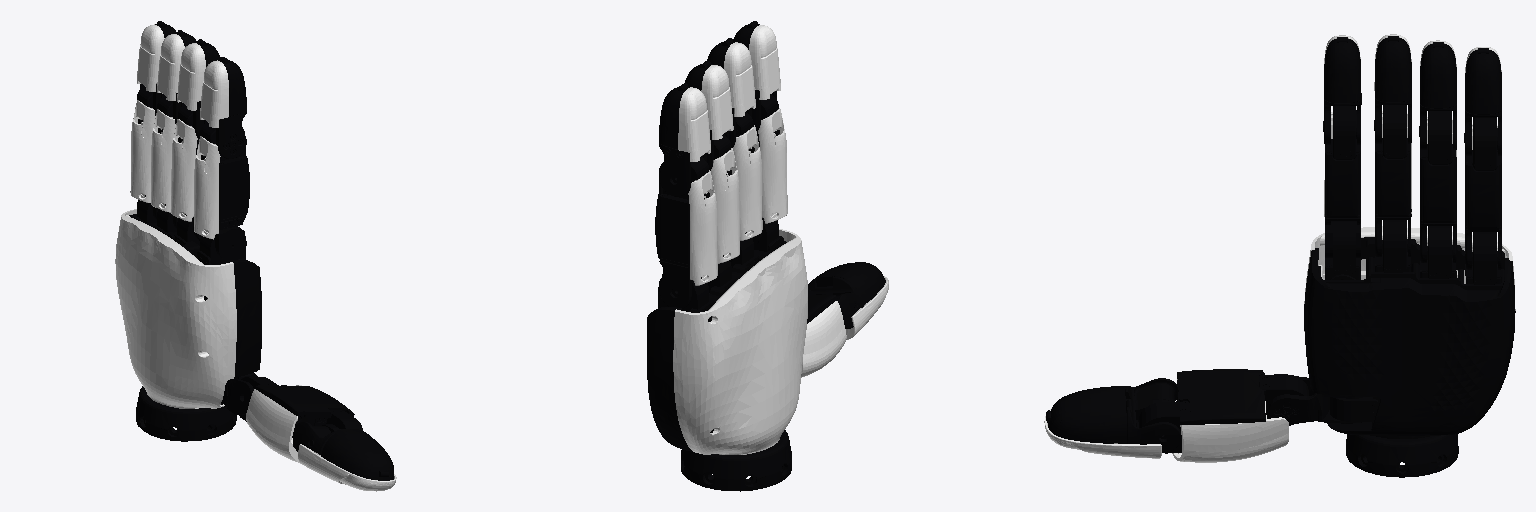
--- Render facts (derived) ---
Views: 3 orthographic renders of the robot side by side, from view 1: azimuth 30°, elevation 25°; view 2: azimuth 150°, elevation 25°; view 3: azimuth 270°, elevation 25°.
Robot: xhand_left — 31 links, 30 joints (12 revolute, 18 fixed); root link base_link; default pose: all joints at 0.
Links seen in each view (by area): view 1: left_hand_back_link, left_hand_link, left_hand_thumb_rota_link2, left_hand_thumb_rota_link1, left_hand_index_rota_link1, left_hand_index_rotaback_link1, left_hand_thumb_rotaback_link1, left_hand_midback_link1, left_hand_index_rota_link2, left_hand_ringback_link1, left_hand_pinkyback_link1, left_hand_index_rotaback_link2 (+6 smaller); view 2: left_hand_back_link, left_hand_link, left_hand_pinky_link1, left_hand_pinkyback_link1, left_hand_index_rotaback_link1, left_hand_thumb_rota_link2, left_hand_ringback_link1, left_hand_midback_link1, left_hand_pinky_link2, left_hand_thumb_rotaback_link1, left_hand_pinkyback_link2, left_hand_index_rotaback_link2 (+5 smaller); view 3: left_hand_link, left_hand_thumb_rota_link1, left_hand_thumb_rota_link2, left_hand_pinky_link1, left_hand_ring_link1, left_hand_mid_link1, left_hand_thumb_rotaback_link1, left_hand_index_rota_link1, left_hand_index_rota_link2, left_hand_ring_link2, left_hand_mid_link2, left_hand_pinky_link2 (+4 smaller).
Boxes of the visible links, left/top/right/bottom form: left_hand_back_link: left=115, top=209, right=236, bottom=408; left_hand_link: left=129, top=200, right=261, bottom=441; left_hand_thumb_rota_link2: left=293, top=422, right=393, bottom=480; left_hand_thumb_rota_link1: left=239, top=377, right=362, bottom=447; left_hand_index_rota_link1: left=200, top=122, right=249, bottom=229; left_hand_index_rotaback_link1: left=194, top=136, right=220, bottom=239; left_hand_thumb_rotaback_link1: left=246, top=385, right=301, bottom=463; left_hand_midback_link1: left=171, top=119, right=197, bottom=221; left_hand_index_rota_link2: left=204, top=60, right=246, bottom=158; left_hand_ringback_link1: left=151, top=109, right=175, bottom=212; left_hand_pinkyback_link1: left=130, top=100, right=155, bottom=202; left_hand_index_rotaback_link2: left=200, top=60, right=228, bottom=127; left_hand_back_link: left=673, top=229, right=807, bottom=454; left_hand_link: left=647, top=238, right=791, bottom=491; left_hand_pinky_link1: left=655, top=156, right=709, bottom=308; left_hand_pinkyback_link1: left=688, top=170, right=717, bottom=285; left_hand_index_rotaback_link1: left=758, top=108, right=787, bottom=223; left_hand_thumb_rota_link2: left=808, top=262, right=885, bottom=328; left_hand_ringback_link1: left=711, top=148, right=739, bottom=263; left_hand_midback_link1: left=733, top=125, right=762, bottom=240; left_hand_pinky_link2: left=659, top=87, right=706, bottom=196; left_hand_thumb_rotaback_link1: left=801, top=301, right=846, bottom=377; left_hand_pinkyback_link2: left=678, top=87, right=710, bottom=161; left_hand_index_rotaback_link2: left=749, top=25, right=780, bottom=99; left_hand_link: left=1304, top=220, right=1515, bottom=477; left_hand_thumb_rota_link1: left=1136, top=369, right=1308, bottom=453; left_hand_thumb_rota_link2: left=1047, top=378, right=1181, bottom=451; left_hand_pinky_link1: left=1465, top=117, right=1501, bottom=269; left_hand_ring_link1: left=1420, top=111, right=1456, bottom=262; left_hand_mid_link1: left=1375, top=105, right=1411, bottom=256; left_hand_thumb_rotaback_link1: left=1172, top=379, right=1288, bottom=462; left_hand_index_rota_link1: left=1325, top=106, right=1360, bottom=224; left_hand_index_rota_link2: left=1323, top=39, right=1361, bottom=144; left_hand_ring_link2: left=1419, top=44, right=1456, bottom=149; left_hand_mid_link2: left=1374, top=38, right=1411, bottom=143; left_hand_pinky_link2: left=1464, top=50, right=1501, bottom=155.
Bounding box of the posed robot: 0.0644 × 0.2091 × 0.2078 m (x, y, z).
Meshes: 30 distinct files referenced, 30 mesh visuals loaded (30 binary STL).

The robot description file, URDF, robot "xhand_left":
<?xml version="1.0" encoding="utf-8"?>
<!-- This URDF was automatically created by SolidWorks to URDF Exporter! Originally created by Stephen Brawner ([email redacted]) 
     Commit Version: 1.6.0-4-g7f85cfe  Build Version: 1.6.7995.38578
     For more information, please see http://wiki.ros.org/sw_urdf_exporter -->
<robot
  name="xhand_left">

  <link name="base_link"/>
  <joint name="base_joint" type="fixed">
    <parent link="base_link"/>
    <child link="left_hand_link"/>
    <origin xyz="0 0 0" rpy="3.14 0 -1.57"/>
  </joint>
  <link
    name="left_hand_link">
    <inertial>
      <origin
        xyz="-0.00332669287155695 -0.0101781679017775 -0.0570610488181998"
        rpy="0 0 0" />
      <mass
        value="0.53910397" />
      <inertia
        ixx="0.00046461"
        ixy="-0.0000027"
        ixz="-0.00005111"
        iyy="0.00064437"
        iyz="-0.00000218"
        izz="0.00027759" />
    </inertial>
    <visual>
      <origin
        xyz="0 0 0"
        rpy="0 0 0" />
      <geometry>
        <mesh
          filename="meshes/left_hand_link.STL" />
      </geometry>
      <material
        name="RAL_9005_Jet_Black">
        <color
          rgba="0.055 0.055 0.063 1" />
      </material>
    </visual>
    <collision>
      <origin
        xyz="0 0 0"
        rpy="0 0 0" />
      <geometry>
        <mesh
          filename="meshes/left_hand_link.STL" />
      </geometry>
    </collision>
  </link>
  <link
    name="left_hand_ee_link">
    <inertial>
      <origin
        xyz="-9.14235300816632E-20 6.87814821208628E-18 0"
        rpy="0 0 0" />
      <mass
        value="0.00000565" />
      <inertia
        ixx="0.00000000001"
        ixy="0.00000000001"
        ixz="0.00000000001"
        iyy="0.00000000001"
        iyz="0.00000000001"
        izz="0.00000000001" />
    </inertial>
    <visual>
      <origin
        xyz="0 0 0"
        rpy="0 0 0" />
      <geometry>
        <mesh
          filename="meshes/left_hand_ee_link.STL" />
      </geometry>
      <material
        name="RAL_9005_Jet_Black">
        <color
          rgba="0.055 0.055 0.063 1" />
      </material>
    </visual>
    <collision>
      <origin
        xyz="0 0 0"
        rpy="0 0 0" />
      <geometry>
        <mesh
          filename="meshes/left_hand_ee_link.STL" />
      </geometry>
    </collision>
  </link>
  <joint
    name="left_hand_ee_joint"
    type="fixed">
    <origin
      xyz="0 0 -0.065"
      rpy="0 0 0" />
    <parent
      link="left_hand_link" />
    <child
      link="left_hand_ee_link" />
    <axis
      xyz="0 0 0" />
  </joint>
  <link
    name="left_hand_back_link">
    <inertial>
      <origin
        xyz="-0.00206614328070064 0.0140092020913419 0.000644119291874204"
        rpy="0 0 0" />
      <mass
        value="0.00000020" />
      <inertia
        ixx="0.00000000001"
        ixy="0.00000000001"
        ixz="0.00000000001"
        iyy="0.00000000001"
        iyz="0.00000000001"
        izz="0.00000000001" />
    </inertial>
    <visual>
      <origin
        xyz="0 0 0"
        rpy="0 0 0" />
      <geometry>
        <mesh
          filename="meshes/left_hand_back_link.STL" />
      </geometry>
      <material
        name="RAL_9003_Signal_White">
        <color
          rgba="0.941 0.941 0.941 1" />
      </material>
    </visual>
    <collision>
      <origin
        xyz="0 0 0"
        rpy="0 0 0" />
      <geometry>
        <mesh
          filename="meshes/left_hand_back_link.STL" />
      </geometry>
    </collision>
  </link>
  <joint
    name="left_hand_back_joint"
    type="fixed">
    <origin
      xyz="0 0 -0.065"
      rpy="0 0 0" />
    <parent
      link="left_hand_link" />
    <child
      link="left_hand_back_link" />
    <axis
      xyz="0 0 0" />
    <dynamics
      damping="0"
      friction="0" />
  </joint>
  <link
    name="left_hand_thumb_bend_link">
    <inertial>
      <origin
        xyz="0.0144315029292586 0.00116653625408803 -6.50665966587562E-05"
        rpy="0 0 0" />
      <mass
        value="0.0118729" />
      <inertia
        ixx="0.00000062"
        ixy="0.00000004"
        ixz="-0.00000008"
        iyy="0.0000016"
        iyz="0.00000000001"
        izz="0.00000162" />
    </inertial>
    <visual>
      <origin
        xyz="0 0 0"
        rpy="0 0 0" />
      <geometry>
        <mesh
          filename="meshes/left_hand_thumb_bend_link.STL" />
      </geometry>
      <material
        name="RAL_9005_Jet_Black">
        <color
          rgba="0.055 0.055 0.063 1" />
      </material>
    </visual>
    <collision>
      <origin
        xyz="0 0 0"
        rpy="0 0 0" />
      <geometry>
        <mesh
          filename="meshes/left_hand_thumb_bend_link.STL" />
      </geometry>
    </collision>
  </link>
  <joint
    name="left_hand_thumb_bend_joint"
    type="revolute">
    <origin
      xyz="0.0228 -0.0095 -0.0305"
      rpy="0 0 0" />
    <parent
      link="left_hand_link" />
    <child
      link="left_hand_thumb_bend_link" />
    <axis
      xyz="0 0 -1" />
    <limit
      lower="0"
      upper="1.832"
      effort="1.1"
      velocity="8.63" />
    <dynamics
      damping="0"
      friction="0" />
  </joint>
  <link
    name="left_hand_thumb_rota_link1">
    <inertial>
      <origin
        xyz="0.028699400584835 0.000353013004294657 -0.0013521057380018"
        rpy="0 0 0" />
      <mass
        value="0.13268494" />
      <inertia
        ixx="0.00001702"
        ixy="0.00000762"
        ixz="-0.00000176"
        iyy="0.00003592"
        iyz="0.00000197"
        izz="0.00004285" />
    </inertial>
    <visual>
      <origin
        xyz="0 0 0"
        rpy="0 0 0" />
      <geometry>
        <mesh
          filename="meshes/left_hand_thumb_rota_link1.STL" />
      </geometry>
      <material
        name="RAL_9005_Jet_Black">
        <color
          rgba="0.055 0.055 0.063 1" />
      </material>
    </visual>
    <collision>
      <origin
        xyz="0 0 0"
        rpy="0 0 0" />
      <geometry>
        <mesh
          filename="meshes/left_hand_thumb_rota_link1.STL" />
      </geometry>
    </collision>
  </link>
  <joint
    name="left_hand_thumb_rota_joint1"
    type="revolute">
    <origin
      xyz="0.028599 -0.0083177 0.00178"
      rpy="-0.2618 0 -0.0407" />
    <parent
      link="left_hand_thumb_bend_link" />
    <child
      link="left_hand_thumb_rota_link1" />
    <axis
      xyz="0 1 0" />
    <limit
      lower="-0.698"
      upper="1.745"
      effort="1.1"
      velocity="8.63" />
    <dynamics
      damping="0"
      friction="0" />
  </joint>
  <link
    name="left_hand_thumb_rotaback_link1">
    <inertial>
      <origin
        xyz="-0.0296284435379629 -0.00145635345487384 0.00757347054072984"
        rpy="0 0 0" />
      <mass
        value="0.00000006" />
      <inertia
        ixx="0.00000000001"
        ixy="0.00000000001"
        ixz="0.00000000001"
        iyy="0.00000000001"
        iyz="0.00000000001"
        izz="0.00000000001" />
    </inertial>
    <visual>
      <origin
        xyz="0 0 0"
        rpy="0 0 0" />
      <geometry>
        <mesh
          filename="meshes/left_hand_thumb_rotaback_link1.STL" />
      </geometry>
      <material
        name="RAL_9003_Signal_White">
        <color
          rgba="0.941 0.941 0.941 1" />
      </material>
    </visual>
    <collision>
      <origin
        xyz="0 0 0"
        rpy="0 0 0" />
      <geometry>
        <mesh
          filename="meshes/left_hand_thumb_rotaback_link1.STL" />
      </geometry>
    </collision>
  </link>
  <joint
    name="left_hand_thumb_rotaback_joint1"
    type="fixed">
    <origin
      xyz="0.0553000000000004 0 0"
      rpy="0 0 0" />
    <parent
      link="left_hand_thumb_rota_link1" />
    <child
      link="left_hand_thumb_rotaback_link1" />
    <axis
      xyz="0 0 0" />
    <dynamics
      damping="0"
      friction="0" />
  </joint>
  <link
    name="left_hand_thumb_rota_link2">
    <inertial>
      <origin
        xyz="0.0228414266462457 0.000460794125797265 -0.000578251645405752"
        rpy="0 0 0" />
      <mass
        value="0.03536566" />
      <inertia
        ixx="0.00000353"
        ixy="-0.0000001"
        ixz="0.00000021"
        iyy="0.00000785"
        iyz="0.00000038"
        izz="0.00000898" />
    </inertial>
    <visual>
      <origin
        xyz="0 0 0"
        rpy="0 0 0" />
      <geometry>
        <mesh
          filename="meshes/left_hand_thumb_rota_link2.STL" />
      </geometry>
      <material
        name="RAL_9005_Jet_Black">
        <color
          rgba="0.055 0.055 0.063 1" />
      </material>
    </visual>
    <collision>
      <origin
        xyz="0 0 0"
        rpy="0 0 0" />
      <geometry>
        <mesh
          filename="meshes/left_hand_thumb_rota_link2.STL" />
      </geometry>
    </collision>
  </link>
  <joint
    name="left_hand_thumb_rota_joint2"
    type="revolute">
    <origin
      xyz="0.0553 0 0"
      rpy="0 0 0" />
    <parent
      link="left_hand_thumb_rota_link1" />
    <child
      link="left_hand_thumb_rota_link2" />
    <axis
      xyz="0 1 0" />
    <limit
      lower="0"
      upper="1.745"
      effort="0.4"
      velocity="14.38" />
    <dynamics
      damping="0"
      friction="0" />
  </joint>
  <link
    name="left_hand_thumb_rotaback_link2">
    <inertial>
      <origin
        xyz="-0.0256682291910944 0.000513274886833534 0.00926148645051527"
        rpy="0 0 0" />
      <mass
        value="0.00000004" />
      <inertia
        ixx="0.00000000001"
        ixy="0.00000000001"
        ixz="0.00000000001"
        iyy="0.00000000001"
        iyz="0.00000000001"
        izz="0.00000000001" />
    </inertial>
    <visual>
      <origin
        xyz="0 0 0"
        rpy="0 0 0" />
      <geometry>
        <mesh
          filename="meshes/left_hand_thumb_rotaback_link2.STL" />
      </geometry>
      <material
        name="RAL_9003_Signal_White">
        <color
          rgba="0.941 0.941 0.941 1" />
      </material>
    </visual>
    <collision>
      <origin
        xyz="0 0 0"
        rpy="0 0 0" />
      <geometry>
        <mesh
          filename="meshes/left_hand_thumb_rotaback_link2.STL" />
      </geometry>
    </collision>
  </link>
  <joint
    name="left_hand_thumb_rotaback_joint2"
    type="fixed">
    <origin
      xyz="0.0499881470979494 0 0"
      rpy="0 0 0" />
    <parent
      link="left_hand_thumb_rota_link2" />
    <child
      link="left_hand_thumb_rotaback_link2" />
    <axis
      xyz="0 0 0" />
    <dynamics
      damping="0"
      friction="0" />
  </joint>
  <link
    name="left_hand_thumb_rota_tip">
    <inertial>
      <origin
        xyz="-8.32667268468867E-17 1.04083408558608E-17 2.28983498828939E-16"
        rpy="0 0 0" />
      <mass
        value="0.00000565" />
      <inertia
        ixx="0.00000000001"
        ixy="0.00000000001"
        ixz="0.00000000001"
        iyy="0.00000000001"
        iyz="0.00000000001"
        izz="0.00000000001" />
    </inertial>
    <visual>
      <origin
        xyz="0 0 0"
        rpy="0 0 0" />
      <geometry>
        <mesh
          filename="meshes/left_hand_thumb_rota_tip.STL" />
      </geometry>
      <material
        name="RAL_9005_Jet_Black">
        <color
          rgba="0.055 0.055 0.063 1" />
      </material>
    </visual>
    <collision>
      <origin
        xyz="0 0 0"
        rpy="0 0 0" />
      <geometry>
        <mesh
          filename="meshes/left_hand_thumb_rota_tip.STL" />
      </geometry>
    </collision>
  </link>
  <joint
    name="left_hand_thumb_rota_joint3"
    type="fixed">
    <origin
      xyz="0.0499881470979494 0 0"
      rpy="0 0 0" />
    <parent
      link="left_hand_thumb_rota_link2" />
    <child
      link="left_hand_thumb_rota_tip" />
    <axis
      xyz="0 0 0" />
    <dynamics
      damping="0"
      friction="0" />
  </joint>
  <link
    name="left_hand_index_bend_link">
    <inertial>
      <origin
        xyz="-0.000388464456994867 0.000992075604557427 -0.00970333167554097"
        rpy="0 0 0" />
      <mass
        value="0.06910833" />
      <inertia
        ixx="0.0000174"
        ixy="0.00000000001"
        ixz="0.00000000001"
        iyy="0.00001677"
        iyz="0.00000013"
        izz="0.00000345" />
    </inertial>
    <visual>
      <origin
        xyz="0 0 0"
        rpy="0 0 0" />
      <geometry>
        <mesh
          filename="meshes/left_hand_index_bend_link.STL" />
      </geometry>
      <material
        name="RAL_9005_Jet_Black">
        <color
          rgba="0.055 0.055 0.063 1" />
      </material>
    </visual>
    <!-- <collision>
      <origin
        xyz="0 0 0"
        rpy="0 0 0" />
      <geometry>
        <mesh
          filename="meshes/left_hand_index_bend_collide_link.STL" />
      </geometry>
    </collision> -->
  </link>
  <joint
    name="left_hand_index_bend_joint"
    type="revolute">
    <origin
      xyz="0.0265 -0.0065 -0.0899"
      rpy="0 0 0" />
    <parent
      link="left_hand_link" />
    <child
      link="left_hand_index_bend_link" />
    <axis
      xyz="0 -1 0" />
    <limit
      lower="-0.174"
      upper="0.174"
      effort="0.4"
      velocity="14.38" />
    <dynamics
      damping="0"
      friction="0" />
  </joint>
  <link
    name="left_hand_index_rota_link1">
    <inertial>
      <origin
        xyz="-3.58049083604185E-05 -0.00053041759210529 -0.0332784671157223"
        rpy="0 0 0" />
      <mass
        value="0.06298297" />
      <inertia
        ixx="0.00001738"
        ixy="0.00000000001"
        ixz="-0.00000028"
        iyy="0.00001686"
        iyz="-0.00000019"
        izz="0.0000032" />
    </inertial>
    <visual>
      <origin
        xyz="0 0 0"
        rpy="0 0 0" />
      <geometry>
        <mesh
          filename="meshes/left_hand_index_rota_link1.STL" />
      </geometry>
      <material
        name="RAL_9005_Jet_Black">
        <color
          rgba="0.055 0.055 0.063 1" />
      </material>
    </visual>
    <collision>
      <origin
        xyz="0 0 0"
        rpy="0 0 0" />
      <!-- <geometry>
        <mesh
          filename="meshes/left_hand_index_rota_x_link1.STL" />          
      </geometry> -->
      <geometry>
        <mesh
          filename="meshes/left_hand_index_rota_link1.STL" />          
      </geometry>

    </collision>
  </link>
  <joint
    name="left_hand_index_joint1"
    type="revolute">
    <origin
      xyz="0 0 -0.0178"
      rpy="0 0 0" />
    <parent
      link="left_hand_index_bend_link" />
    <child
      link="left_hand_index_rota_link1" />
    <axis
      xyz="-1 0 0" />
    <limit
      lower="0"
      upper="1.919"
      effort="1.1"
      velocity="8.63" />
    <dynamics
      damping="0"
      friction="0" />
  </joint>
  <link
    name="left_hand_index_rotaback_link1">
    <inertial>
      <origin
        xyz="0.00014803463945353 0.0115948039961551 0.0241234085631844"
        rpy="0 0 0" />
      <mass
        value="0.00000002" />
      <inertia
        ixx="0.00000000001"
        ixy="0.00000000001"
        ixz="0.00000000001"
        iyy="0.00000000001"
        iyz="0.00000000001"
        izz="0.00000000001" />
    </inertial>
    <visual>
      <origin
        xyz="0 0 0"
        rpy="0 0 0" />
      <geometry>
        <mesh
          filename="meshes/left_hand_index_rotaback_link1.STL" />
      </geometry>
      <material
        name="RAL_9003_Signal_White">
        <color
          rgba="0.941 0.941 0.941 1" />
      </material>
    </visual>
    <collision>
      <origin
        xyz="0 0 0"
        rpy="0 0 0" />
      <geometry>
        <mesh
          filename="meshes/left_hand_index_rotaback_link1.STL" />
      </geometry>
    </collision>
  </link>
  <joint
    name="left_hand_index_rotaback_joint1"
    type="fixed">
    <origin
      xyz="0 0 -0.0558000000000001"
      rpy="0 0 0" />
    <parent
      link="left_hand_index_rota_link1" />
    <child
      link="left_hand_index_rotaback_link1" />
    <axis
      xyz="0 0 0" />
    <dynamics
      damping="0"
      friction="0" />
  </joint>
  <link
    name="left_hand_index_rota_link2">
    <inertial>
      <origin
        xyz="0.000248361662016118 -0.00119905190206697 -0.0213789854478661"
        rpy="0 0 0" />
      <mass
        value="0.01588724" />
      <inertia
        ixx="0.00000277"
        ixy="0.00000000001"
        ixz="-0.00000012"
        iyy="0.00000283"
        iyz="-0.00000007"
        izz="0.00000085" />
    </inertial>
    <visual>
      <origin
        xyz="0 0 0"
        rpy="0 0 0" />
      <geometry>
        <mesh
          filename="meshes/left_hand_index_rota_link2.STL" />
      </geometry>
      <material
        name="RAL_9005_Jet_Black">
        <color
          rgba="0.055 0.055 0.063 1" />
      </material>
    </visual>
    <collision>
      <origin
        xyz="0 0 0"
        rpy="0 0 0" />
      <geometry>
        <mesh
          filename="meshes/left_hand_index_rota_link2.STL" />
      </geometry>
    </collision>
  </link>
  <joint
    name="left_hand_index_joint2"
    type="revolute">
    <origin
      xyz="0 0 -0.0558"
      rpy="0 0 0" />
    <parent
      link="left_hand_index_rota_link1" />
    <child
      link="left_hand_index_rota_link2" />
    <axis
      xyz="-1 0 0" />
    <limit
      lower="0"
      upper="1.919"
      effort="0.4"
      velocity="14.38" />
    <dynamics
      damping="0"
      friction="0" />
  </joint>
  <link
    name="left_hand_index_rotaback_link2">
    <inertial>
      <origin
        xyz="-0.000157950438605944 0.00758843721876324 0.017665521085575"
        rpy="0 0 0" />
      <mass
        value="0.00000001" />
      <inertia
        ixx="0.00000000001"
        ixy="0.00000000001"
        ixz="0.00000000001"
        iyy="0.00000000001"
        iyz="0.00000000001"
        izz="0.00000000001" />
    </inertial>
    <visual>
      <origin
        xyz="0 0 0"
        rpy="0 0 0" />
      <geometry>
        <mesh
          filename="meshes/left_hand_index_rotaback_link2.STL" />
      </geometry>
      <material
        name="RAL_9003_Signal_White">
        <color
          rgba="0.941 0.941 0.941 1" />
      </material>
    </visual>
    <collision>
      <origin
        xyz="0 0 0"
        rpy="0 0 0" />
      <geometry>
        <mesh
          filename="meshes/left_hand_index_rotaback_link2.STL" />
      </geometry>
    </collision>
  </link>
  <joint
    name="left_hand_index_rotaback_joint2"
    type="fixed">
    <origin
      xyz="0 0 -0.0422482924089404"
      rpy="0 0 0" />
    <parent
      link="left_hand_index_rota_link2" />
    <child
      link="left_hand_index_rotaback_link2" />
    <axis
      xyz="0 0 0" />
    <dynamics
      damping="0"
      friction="0" />
  </joint>
  <link
    name="left_hand_index_rota_tip">
    <inertial>
      <origin
        xyz="-1.00613961606655E-16 1.90819582357449E-17 0"
        rpy="0 0 0" />
      <mass
        value="0.00000565" />
      <inertia
        ixx="0.00000000001"
        ixy="0.00000000001"
        ixz="0.00000000001"
        iyy="0.00000000001"
        iyz="0.00000000001"
        izz="0.00000000001" />
    </inertial>
    <visual>
      <origin
        xyz="0 0 0"
        rpy="0 0 0" />
      <geometry>
        <mesh
          filename="meshes/left_hand_index_rota_tip.STL" />
      </geometry>
      <material
        name="RAL_9005_Jet_Black">
        <color
          rgba="0.055 0.055 0.063 1" />
      </material>
    </visual>
    <collision>
      <origin
        xyz="0 0 0"
        rpy="0 0 0" />
      <geometry>
        <mesh
          filename="meshes/left_hand_index_rota_tip.STL" />
      </geometry>
    </collision>
  </link>
  <joint
    name="left_hand_index_rota_joint3"
    type="fixed">
    <origin
      xyz="0 0 -0.0422482924089404"
      rpy="0 0 0" />
    <parent
      link="left_hand_index_rota_link2" />
    <child
      link="left_hand_index_rota_tip" />
    <axis
      xyz="0 0 0" />
    <dynamics
      damping="0"
      friction="0" />
  </joint>
  <link
    name="left_hand_mid_link1">
    <inertial>
      <origin
        xyz="-3.58049083603916E-05 -0.000530417592105155 -0.0332784671157224"
        rpy="0 0 0" />
      <mass
        value="0.06298297" />
      <inertia
        ixx="0.00001738"
        ixy="0.00000000001"
        ixz="-0.00000028"
        iyy="0.00001686"
        iyz="-0.00000019"
        izz="0.0000032" />
    </inertial>
    <visual>
      <origin
        xyz="0 0 0"
        rpy="0 0 0" />
      <geometry>
        <mesh
          filename="meshes/left_hand_mid_link1.STL" />
      </geometry>
      <material
        name="RAL_9005_Jet_Black">
        <color
          rgba="0.055 0.055 0.063 1" />
      </material>
    </visual>
    <collision>
      <origin
        xyz="0 0 0"
        rpy="0 0 0" />
      <geometry>
        <mesh
          filename="meshes/left_hand_mid_link1.STL" />
      </geometry>
    </collision>
  </link>
  <joint
    name="left_hand_mid_joint1"
    type="revolute">
    <origin
      xyz="0.004 -0.0065 -0.1082"
      rpy="0 0 0" />
    <parent
      link="left_hand_link" />
    <child
      link="left_hand_mid_link1" />
    <axis
      xyz="-1 0 0" />
    <limit
      lower="0"
      upper="1.919"
      effort="1.1"
      velocity="8.63" />
    <dynamics
      damping="0"
      friction="0" />
  </joint>
  <link
    name="left_hand_midback_link1">
    <inertial>
      <origin
        xyz="0.000148034858018445 0.0115948038778314 0.024123407735519"
        rpy="0 0 0" />
      <mass
        value="0.00000002" />
      <inertia
        ixx="0.00000000001"
        ixy="0.00000000001"
        ixz="0.00000000001"
        iyy="0.00000000001"
        iyz="0.00000000001"
        izz="0.00000000001" />
    </inertial>
    <visual>
      <origin
        xyz="0 0 0"
        rpy="0 0 0" />
      <geometry>
        <mesh
          filename="meshes/left_hand_midback_link1.STL" />
      </geometry>
      <material
        name="RAL_9003_Signal_White">
        <color
          rgba="0.941 0.941 0.941 1" />
      </material>
    </visual>
    <collision>
      <origin
        xyz="0 0 0"
        rpy="0 0 0" />
      <geometry>
        <mesh
          filename="meshes/left_hand_midback_link1.STL" />
      </geometry>
    </collision>
  </link>
  <joint
    name="left_hand_midback_joint1"
    type="fixed">
    <origin
      xyz="0 0 -0.0558000000000001"
      rpy="0 0 0" />
    <parent
      link="left_hand_mid_link1" />
    <child
      link="left_hand_midback_link1" />
    <axis
      xyz="0 0 0" />
    <dynamics
      damping="0"
      friction="0" />
  </joint>
  <link
    name="left_hand_mid_link2">
    <inertial>
      <origin
        xyz="0.000248361662016048 -0.00119905190206678 -0.0213789854478656"
        rpy="0 0 0" />
      <mass
        value="0.01588724" />
      <inertia
        ixx="0.00000277"
        ixy="0.00000000001"
        ixz="-0.00000012"
        iyy="0.00000283"
        iyz="-0.00000007"
        izz="0.00000085" />
    </inertial>
    <visual>
      <origin
        xyz="0 0 0"
        rpy="0 0 0" />
      <geometry>
        <mesh
          filename="meshes/left_hand_mid_link2.STL" />
      </geometry>
      <material
        name="RAL_9005_Jet_Black">
        <color
          rgba="0.055 0.055 0.063 1" />
      </material>
    </visual>
    <collision>
      <origin
        xyz="0 0 0"
        rpy="0 0 0" />
      <geometry>
        <mesh
          filename="meshes/left_hand_mid_link2.STL" />
      </geometry>
    </collision>
  </link>
  <joint
    name="left_hand_mid_joint2"
    type="revolute">
    <origin
      xyz="0 0 -0.0558"
      rpy="0 0 0" />
    <parent
      link="left_hand_mid_link1" />
    <child
      link="left_hand_mid_link2" />
    <axis
      xyz="-1 0 0" />
    <limit
      lower="0"
      upper="1.919"
      effort="0.4"
      velocity="14.38" />
    <dynamics
      damping="0"
      friction="0" />
  </joint>
  <link
    name="left_hand_midback_link2">
    <inertial>
      <origin
        xyz="-0.000157950438634382 0.00758843721877263 0.0176655210856587"
        rpy="0 0 0" />
      <mass
        value="0.00000001" />
      <inertia
        ixx="0.00000000001"
        ixy="0.00000000001"
        ixz="0.00000000001"
        iyy="0.00000000001"
        iyz="0.00000000001"
        izz="0.00000000001" />
    </inertial>
    <visual>
      <origin
        xyz="0 0 0"
        rpy="0 0 0" />
      <geometry>
        <mesh
          filename="meshes/left_hand_midback_link2.STL" />
      </geometry>
      <material
        name="RAL_9003_Signal_White">
        <color
          rgba="0.941 0.941 0.941 1" />
      </material>
    </visual>
    <collision>
      <origin
        xyz="0 0 0"
        rpy="0 0 0" />
      <geometry>
        <mesh
          filename="meshes/left_hand_midback_link2.STL" />
      </geometry>
    </collision>
  </link>
  <joint
    name="left_hand_midback_joint2"
    type="fixed">
    <origin
      xyz="0 0 -0.0422482924089403"
      rpy="0 0 0" />
    <parent
      link="left_hand_mid_link2" />
    <child
      link="left_hand_midback_link2" />
    <axis
      xyz="0 0 0" />
    <dynamics
      damping="0"
      friction="0" />
  </joint>
  <link
    name="left_hand_mid_tip">
    <inertial>
      <origin
        xyz="-1.90819582357449E-17 1.55257751099924E-16 0"
        rpy="0 0 0" />
      <mass
        value="0.00000565" />
      <inertia
        ixx="0.00000000001"
        ixy="0.00000000001"
        ixz="0.00000000001"
        iyy="0.00000000001"
        iyz="0.00000000001"
        izz="0.00000000001" />
    </inertial>
    <visual>
      <origin
        xyz="0 0 0"
        rpy="0 0 0" />
      <geometry>
        <mesh
          filename="meshes/left_hand_mid_tip.STL" />
      </geometry>
      <material
        name="RAL_9005_Jet_Black">
        <color
          rgba="0.055 0.055 0.063 1" />
      </material>
    </visual>
    <collision>
      <origin
        xyz="0 0 0"
        rpy="0 0 0" />
      <geometry>
        <mesh
          filename="meshes/left_hand_mid_tip.STL" />
      </geometry>
    </collision>
  </link>
  <joint
    name="left_hand_mid_joint3"
    type="fixed">
    <origin
      xyz="0 0 -0.0422482924089403"
      rpy="0 0 0" />
    <parent
      link="left_hand_mid_link2" />
    <child
      link="left_hand_mid_tip" />
    <axis
      xyz="0 0 0" />
    <dynamics
      damping="0"
      friction="0" />
  </joint>
  <link
    name="left_hand_ring_link1">
    <inertial>
      <origin
        xyz="-3.58049083603491E-05 -0.000530417592105894 -0.0332784671157224"
        rpy="0 0 0" />
      <mass
        value="0.06298297" />
      <inertia
        ixx="0.00001738"
        ixy="0.00000000001"
        ixz="-0.00000028"
        iyy="0.00001686"
        iyz="-0.00000019"
        izz="0.0000032" />
    </inertial>
    <visual>
      <origin
        xyz="0 0 0"
        rpy="0 0 0" />
      <geometry>
        <mesh
          filename="meshes/left_hand_ring_link1.STL" />
      </geometry>
      <material
        name="RAL_9005_Jet_Black">
        <color
          rgba="0.055 0.055 0.063 1" />
      </material>
    </visual>
    <collision>
      <origin
        xyz="0 0 0"
        rpy="0 0 0" />
      <geometry>
        <mesh
          filename="meshes/left_hand_ring_link1.STL" />
      </geometry>
    </collision>
  </link>
  <joint
    name="left_hand_ring_joint1"
    type="revolute">
    <origin
      xyz="-0.016 -0.0065 -0.1052"
      rpy="0 0 0" />
    <parent
      link="left_hand_link" />
    <child
      link="left_hand_ring_link1" />
    <axis
      xyz="-1 0 0" />
    <limit
      lower="0"
      upper="1.919"
      effort="1.1"
      velocity="8.63" />
    <dynamics
      damping="0"
      friction="0" />
  </joint>
  <link
    name="left_hand_ringback_link1">
    <inertial>
      <origin
        xyz="0.000148033930314071 0.0115948038916307 0.0241234089720673"
        rpy="0 0 0" />
      <mass
        value="0.00000002" />
      <inertia
        ixx="0.00000000001"
        ixy="0.00000000001"
        ixz="0.00000000001"
        iyy="0.00000000001"
        iyz="0.00000000001"
        izz="0.00000000001" />
    </inertial>
    <visual>
      <origin
        xyz="0 0 0"
        rpy="0 0 0" />
      <geometry>
        <mesh
          filename="meshes/left_hand_ringback_link1.STL" />
      </geometry>
      <material
        name="RAL_9003_Signal_White">
        <color
          rgba="0.941 0.941 0.941 1" />
      </material>
    </visual>
    <collision>
      <origin
        xyz="0 0 0"
        rpy="0 0 0" />
      <geometry>
        <mesh
          filename="meshes/left_hand_ringback_link1.STL" />
      </geometry>
    </collision>
  </link>
  <joint
    name="left_hand_ringback_joint1"
    type="fixed">
    <origin
      xyz="0 0 -0.0558000000000001"
      rpy="0 0 0" />
    <parent
      link="left_hand_ring_link1" />
    <child
      link="left_hand_ringback_link1" />
    <axis
      xyz="0 0 0" />
    <dynamics
      damping="0"
      friction="0" />
  </joint>
  <link
    name="left_hand_ring_link2">
    <inertial>
      <origin
        xyz="0.000248361662016028 -0.0011990519020675 -0.0213789854478657"
        rpy="0 0 0" />
      <mass
        value="0.01588724" />
      <inertia
        ixx="0.00000277"
        ixy="0.00000000001"
        ixz="-0.00000012"
        iyy="0.00000283"
        iyz="-0.00000007"
        izz="0.00000085" />
    </inertial>
    <visual>
      <origin
        xyz="0 0 0"
        rpy="0 0 0" />
      <geometry>
        <mesh
          filename="meshes/left_hand_ring_link2.STL" />
      </geometry>
      <material
        name="RAL_9005_Jet_Black">
        <color
          rgba="0.055 0.055 0.063 1" />
      </material>
    </visual>
    <collision>
      <origin
        xyz="0 0 0"
        rpy="0 0 0" />
      <geometry>
        <mesh
          filename="meshes/left_hand_ring_link2.STL" />
      </geometry>
    </collision>
  </link>
  <joint
    name="left_hand_ring_joint2"
    type="revolute">
    <origin
      xyz="0 0 -0.0558"
      rpy="0 0 0" />
    <parent
      link="left_hand_ring_link1" />
    <child
      link="left_hand_ring_link2" />
    <axis
      xyz="-1 0 0" />
    <limit
      lower="0"
      upper="1.919"
      effort="0.4"
      velocity="14.38" />
    <dynamics
      damping="0"
      friction="0" />
  </joint>
  <link
    name="left_hand_ringback_link2">
    <inertial>
      <origin
        xyz="-0.000157950438606443 0.00758843721877125 0.0176655210856417"
        rpy="0 0 0" />
      <mass
        value="0.00000001" />
      <inertia
        ixx="0.00000000001"
        ixy="0.00000000001"
        ixz="0.00000000001"
        iyy="0.00000000001"
        iyz="0.00000000001"
        izz="0.00000000001" />
    </inertial>
    <visual>
      <origin
        xyz="0 0 0"
        rpy="0 0 0" />
      <geometry>
        <mesh
          filename="meshes/left_hand_ringback_link2.STL" />
      </geometry>
      <material
        name="RAL_9003_Signal_White">
        <color
          rgba="0.941 0.941 0.941 1" />
      </material>
    </visual>
    <collision>
      <origin
        xyz="0 0 0"
        rpy="0 0 0" />
      <geometry>
        <mesh
          filename="meshes/left_hand_ringback_link2.STL" />
      </geometry>
    </collision>
  </link>
  <joint
    name="left_hand_ringback_joint2"
    type="fixed">
    <origin
      xyz="0 0 -0.0422482924089404"
      rpy="0 0 0" />
    <parent
      link="left_hand_ring_link2" />
    <child
      link="left_hand_ringback_link2" />
    <axis
      xyz="0 0 0" />
    <dynamics
      damping="0"
      friction="0" />
  </joint>
  <link
    name="left_hand_ring_tip">
    <inertial>
      <origin
        xyz="-4.85722573273506E-17 -5.31692745386891E-16 0"
        rpy="0 0 0" />
      <mass
        value="0.00000565" />
      <inertia
        ixx="0.00000000001"
        ixy="0.00000000001"
        ixz="0.00000000001"
        iyy="0.00000000001"
        iyz="0.00000000001"
        izz="0.00000000001" />
    </inertial>
    <visual>
      <origin
        xyz="0 0 0"
        rpy="0 0 0" />
      <geometry>
        <mesh
          filename="meshes/left_hand_ring_tip.STL" />
      </geometry>
      <material
        name="RAL_9005_Jet_Black">
        <color
          rgba="0.055 0.055 0.063 1" />
      </material>
    </visual>
    <collision>
      <origin
        xyz="0 0 0"
        rpy="0 0 0" />
      <geometry>
        <mesh
          filename="meshes/left_hand_ring_tip.STL" />
      </geometry>
    </collision>
  </link>
  <joint
    name="left_hand_ring_joint3"
    type="fixed">
    <origin
      xyz="0 0 -0.0422482924089404"
      rpy="0 0 0" />
    <parent
      link="left_hand_ring_link2" />
    <child
      link="left_hand_ring_tip" />
    <axis
      xyz="0 0 0" />
    <dynamics
      damping="0"
      friction="0" />
  </joint>
  <link
    name="left_hand_pinky_link1">
    <inertial>
      <origin
        xyz="-3.58049083603318E-05 -0.000530417592106195 -0.0332784671157224"
        rpy="0 0 0" />
      <mass
        value="0.06298297" />
      <inertia
        ixx="0.00001738"
        ixy="0.00000000001"
        ixz="-0.00000028"
        iyy="0.00001686"
        iyz="-0.00000019"
        izz="0.0000032" />
    </inertial>
    <visual>
      <origin
        xyz="0 0 0"
        rpy="0 0 0" />
      <geometry>
        <mesh
          filename="meshes/left_hand_pinky_link1.STL" />
      </geometry>
      <material
        name="RAL_9005_Jet_Black">
        <color
          rgba="0.055 0.055 0.063 1" />
      </material>
    </visual>
    <collision>
      <origin
        xyz="0 0 0"
        rpy="0 0 0" />
      <geometry>
        <mesh
          filename="meshes/left_hand_pinky_link1.STL" />
      </geometry>
    </collision>
  </link>
  <joint
    name="left_hand_pinky_joint1"
    type="revolute">
    <origin
      xyz="-0.036 -0.0065 -0.1022"
      rpy="0 0 0" />
    <parent
      link="left_hand_link" />
    <child
      link="left_hand_pinky_link1" />
    <axis
      xyz="-1 0 0" />
    <limit
      lower="0"
      upper="1.919"
      effort="1.1"
      velocity="8.63" />
    <dynamics
      damping="0"
      friction="0" />
  </joint>
  <link
    name="left_hand_pinkyback_link1">
    <inertial>
      <origin
        xyz="0.000148034877008783 0.0115948040346325 0.024123408080182"
        rpy="0 0 0" />
      <mass
        value="0.00000002" />
      <inertia
         ixx="0.00000000001"
        ixy="0.00000000001"
        ixz="0.00000000001"
        iyy="0.00000000001"
        iyz="0.00000000001"
        izz="0.00000000001"/>
    </inertial>
    <visual>
      <origin
        xyz="0 0 0"
        rpy="0 0 0" />
      <geometry>
        <mesh
          filename="meshes/left_hand_pinkyback_link1.STL" />
      </geometry>
      <material
        name="RAL_9003_Signal_White">
        <color
          rgba="0.941 0.941 0.941 1" />
      </material>
    </visual>
    <collision>
      <origin
        xyz="0 0 0"
        rpy="0 0 0" />
      <geometry>
        <mesh
          filename="meshes/left_hand_pinkyback_link1.STL" />
      </geometry>
    </collision>
  </link>
  <joint
    name="left_hand_pinkyback_joint1"
    type="fixed">
    <origin
      xyz="0 0 -0.0558000000000001"
      rpy="0 0 0" />
    <parent
      link="left_hand_pinky_link1" />
    <child
      link="left_hand_pinkyback_link1" />
    <axis
      xyz="0 0 0" />
    <dynamics
      damping="0"
      friction="0" />
  </joint>
  <link
    name="left_hand_pinky_link2">
    <inertial>
      <origin
        xyz="0.000248361696242753 -0.00119905185762272 -0.0213789857007834"
        rpy="0 0 0" />
      <mass
        value="0.01588724" />
      <inertia
        ixx="0.00000277"
        ixy="0.00000000001"
        ixz="-0.00000012"
        iyy="0.00000283"
        iyz="-0.00000007"
        izz="0.00000085" />
    </inertial>
    <visual>
      <origin
        xyz="0 0 0"
        rpy="0 0 0" />
      <geometry>
        <mesh
          filename="meshes/left_hand_pinky_link2.STL" />
      </geometry>
      <material
        name="RAL_9005_Jet_Black">
        <color
          rgba="0.055 0.055 0.063 1" />
      </material>
    </visual>
    <collision>
      <origin
        xyz="0 0 0"
        rpy="0 0 0" />
      <geometry>
        <mesh
          filename="meshes/left_hand_pinky_link2.STL" />
      </geometry>
    </collision>
  </link>
  <joint
    name="left_hand_pinky_joint2"
    type="revolute">
    <origin
      xyz="0 0 -0.0558"
      rpy="0 0 0" />
    <parent
      link="left_hand_pinky_link1" />
    <child
      link="left_hand_pinky_link2" />
    <axis
      xyz="-1 0 0" />
    <limit
      lower="0"
      upper="1.919"
      effort="0.4"
      velocity="14.38" />
    <dynamics
      damping="0"
      friction="0" />
  </joint>
  <link
    name="left_hand_pinkyback_link2">
    <inertial>
      <origin
        xyz="-0.0001579504385983 0.00758843721876557 0.0176655210856048"
        rpy="0 0 0" />
      <mass
        value="0.00000001" />
      <inertia
         ixx="0.00000000001"
        ixy="0.00000000001"
        ixz="0.00000000001"
        iyy="0.00000000001"
        iyz="0.00000000001"
        izz="0.00000000001"/>
    </inertial>
    <visual>
      <origin
        xyz="0 0 0"
        rpy="0 0 0" />
      <geometry>
        <mesh
          filename="meshes/left_hand_pinkyback_link2.STL" />
      </geometry>
      <material
        name="RAL_9003_Signal_White">
        <color
          rgba="0.941 0.941 0.941 1" />
      </material>
    </visual>
    <collision>
      <origin
        xyz="0 0 0"
        rpy="0 0 0" />
      <geometry>
        <mesh
          filename="meshes/left_hand_pinkyback_link2.STL" />
      </geometry>
    </collision>
  </link>
  <joint
    name="left_hand_pinkyback_joint2"
    type="fixed">
    <origin
      xyz="0 0 -0.0422482924089405"
      rpy="0 0 0" />
    <parent
      link="left_hand_pinky_link2" />
    <child
      link="left_hand_pinkyback_link2" />
    <axis
      xyz="0 0 0" />
    <dynamics
      damping="0"
      friction="0" />
  </joint>
  <link
    name="left_hand_pinky_tip">
    <inertial>
      <origin
        xyz="1.38777878078145E-17 -8.84708972748172E-16 2.77555756156289E-17"
        rpy="0 0 0" />
      <mass
        value="0.00000565" />
      <inertia
         ixx="0.00000000001"
        ixy="0.00000000001"
        ixz="0.00000000001"
        iyy="0.00000000001"
        iyz="0.00000000001"
        izz="0.00000000001"/>
    </inertial>
    <visual>
      <origin
        xyz="0 0 0"
        rpy="0 0 0" />
      <geometry>
        <mesh
          filename="meshes/left_hand_pinky_tip.STL" />
      </geometry>
      <material
        name="RAL_9005_Jet_Black">
        <color
          rgba="0.055 0.055 0.063 1" />
      </material>
    </visual>
    <collision>
      <origin
        xyz="0 0 0"
        rpy="0 0 0" />
      <geometry>
        <mesh
          filename="meshes/left_hand_pinky_tip.STL" />
      </geometry>
    </collision>
  </link>
  <joint
    name="left_hand_pinky_joint3"
    type="fixed">
    <origin
      xyz="0 0 -0.0422482924089405"
      rpy="0 0 0" />
    <parent
      link="left_hand_pinky_link2" />
    <child
      link="left_hand_pinky_tip" />
    <axis
      xyz="0 0 0" />
    <dynamics
      damping="0"
      friction="0" />
  </joint>
</robot>
